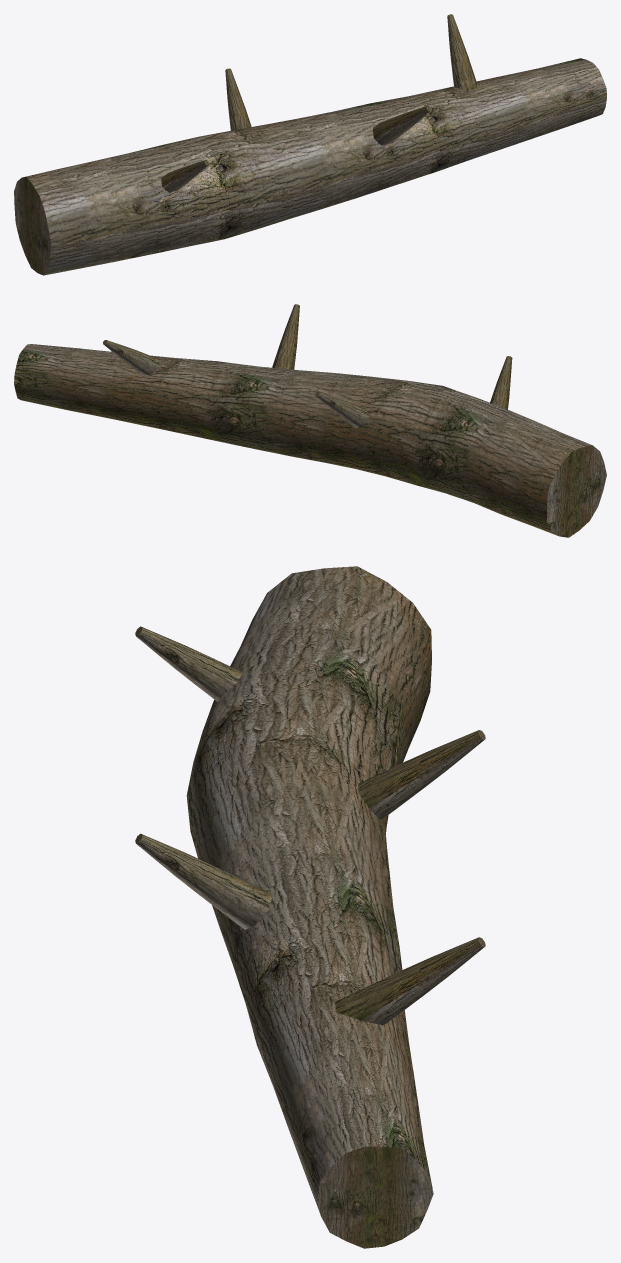
File: fallen_log_lod1.gltf
3 views of the same model, one above another, from view 1: azimuth 30°, elevation 25°; view 2: azimuth 150°, elevation 25°; view 3: azimuth 270°, elevation 25° (orthographic). The views are drawn at different scales.
Parts seen in each view (by area): view 1: fallen_log_lod1; view 2: fallen_log_lod1; view 3: fallen_log_lod1.
Part boxes in pixels (box(x1,y1,x2,y2)): fallen_log_lod1: box(14, 14, 606, 275); fallen_log_lod1: box(14, 304, 606, 537); fallen_log_lod1: box(135, 566, 485, 1248).
Bounding box in the file's own units: 2.59 × 0.5172 × 0.715.
1 material, 1 textured.
